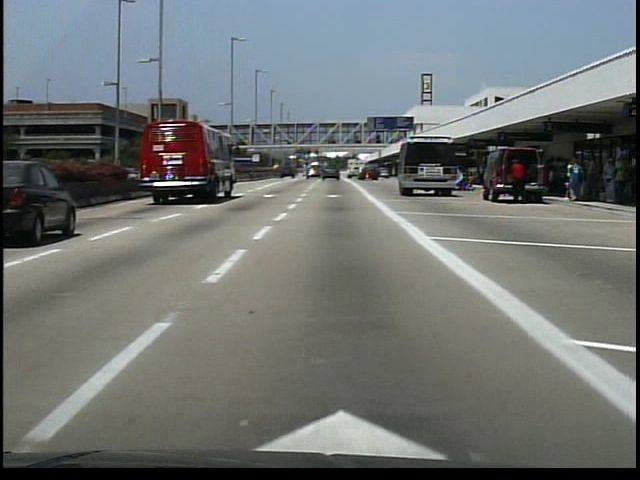person: (509, 155, 529, 208), (451, 167, 473, 193)
